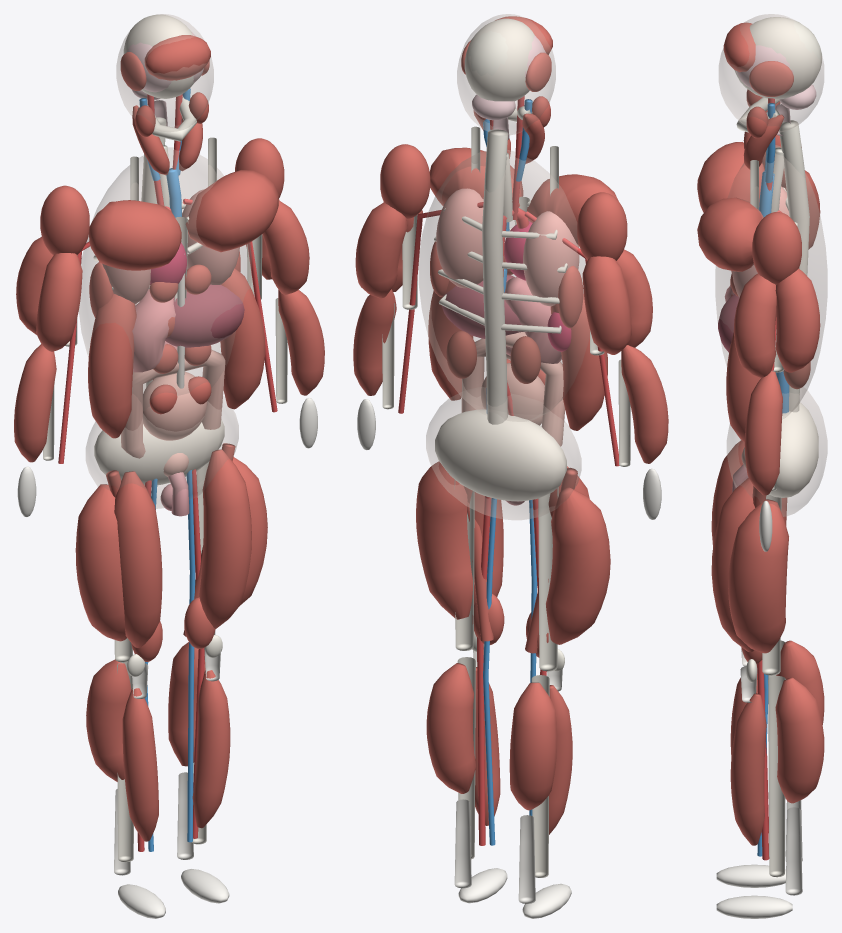
File: male-atlas.glb
The picture shows the model from 3 angles, left to right: view 1: azimuth 30°, elevation 25°; view 2: azimuth 150°, elevation 25°; view 3: azimuth 270°, elevation 25°; orthographic projection.
Visible parts, largest first — view 1: skin_torso, skin_pelvis, skin_head, muscle_rectus_femoris_r, muscle_rectus_femoris_l, muscle_vastus_lateralis_l, muscle_pectoralis_major_r, muscle_external_oblique_l, muscle_pectoralis_major_l, muscle_tibialis_anterior_r, muscle_tibialis_anterior_l, bone_pelvis (+41 smaller); view 2: skin_torso, skin_pelvis, bone_pelvis, skin_head, muscle_vastus_lateralis_l, muscle_vastus_lateralis_r, bone_vertebral_column, muscle_gastrocnemius_r, muscle_gastrocnemius_l, bone_cranium, muscle_triceps_brachii_l, muscle_brachioradialis_l (+47 smaller); view 3: skin_head, skin_torso, muscle_vastus_lateralis_r, skin_pelvis, muscle_gastrocnemius_r, muscle_tibialis_anterior_r, muscle_triceps_brachii_r, muscle_brachioradialis_r, muscle_pectoralis_major_r, muscle_biceps_brachii_r, bone_cranium, muscle_rectus_femoris_r (+33 smaller).
Boxes of the visible parts, x1,y1,x2,y2 form: skin_torso: (79,147,251,410); skin_pelvis: (86,383,238,508); skin_head: (116,14,213,131); muscle_rectus_femoris_r: (199,449,251,629); muscle_rectus_femoris_l: (114,471,162,647); muscle_vastus_lateralis_l: (75,484,126,641); muscle_pectoralis_major_r: (185,170,278,252); muscle_external_oblique_l: (88,294,136,438); muscle_pectoralis_major_l: (88,200,181,270); muscle_tibialis_anterior_r: (192,670,230,828); muscle_tibialis_anterior_l: (122,688,158,841); bone_pelvis: (94,419,224,485); skin_torso: (419,150,589,421); skin_pelvis: (426,387,581,519); bone_pelvis: (435,409,566,501); skin_head: (457,14,555,135); muscle_vastus_lateralis_l: (546,487,610,644); muscle_vastus_lateralis_r: (416,461,474,619); bone_vertebral_column: (482,129,508,424); muscle_gastrocnemius_r: (426,663,475,793); muscle_gastrocnemius_l: (509,682,556,810); bone_cranium: (464,18,534,101); muscle_triceps_brachii_l: (582,256,631,354); muscle_brachioradialis_l: (621,345,668,463); skin_head: (719,14,823,132); skin_torso: (715,145,827,419); muscle_vastus_lateralis_r: (728,499,788,653); skin_pelvis: (727,387,827,516); muscle_gastrocnemius_r: (775,677,824,803); muscle_tibialis_anterior_r: (730,693,766,845); muscle_triceps_brachii_r: (775,268,820,372); muscle_brachioradialis_r: (744,371,782,495); muscle_pectoralis_major_r: (697,197,763,271); muscle_biceps_brachii_r: (733,273,776,378); bone_cranium: (734,17,821,99); muscle_rectus_femoris_r: (711,478,754,651).
Size of the model in its own units: 0.6306 by 1.73 by 0.2311.
